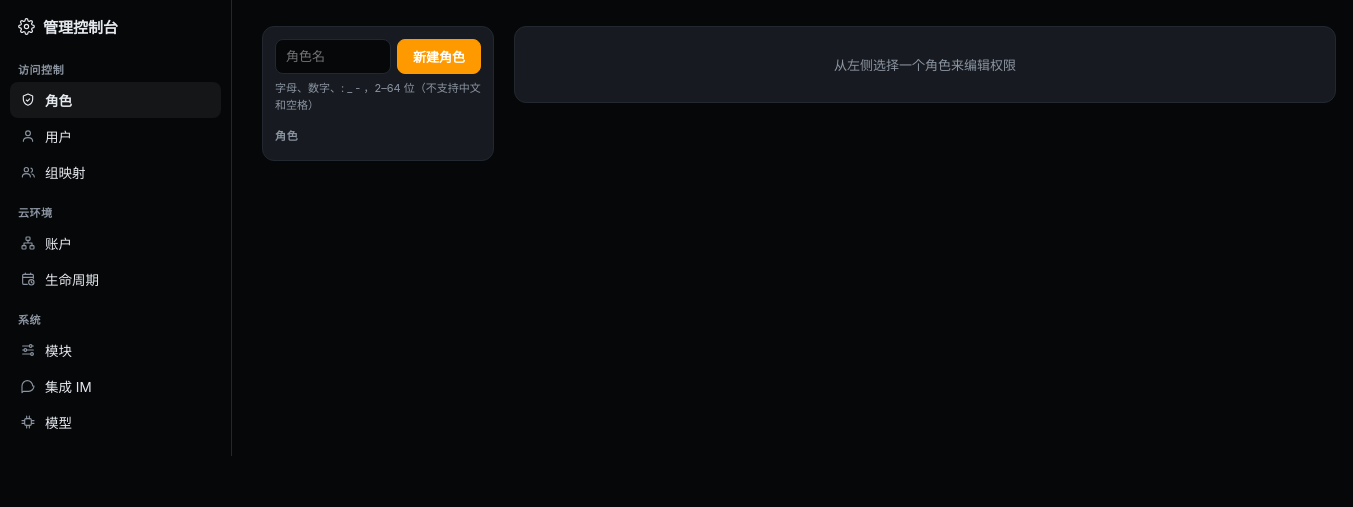
Test: 用户列表：邮箱一列 + 重置密码 + 设邮箱 › 重置密码：只有别人有按钮；确认后调接口，临时密码显示在他的卡片里
The image size is (1353, 507).
Click the button with class "notif-navitem" showing "用户": (116, 136) x1=10 y1=118 x2=221 y2=154
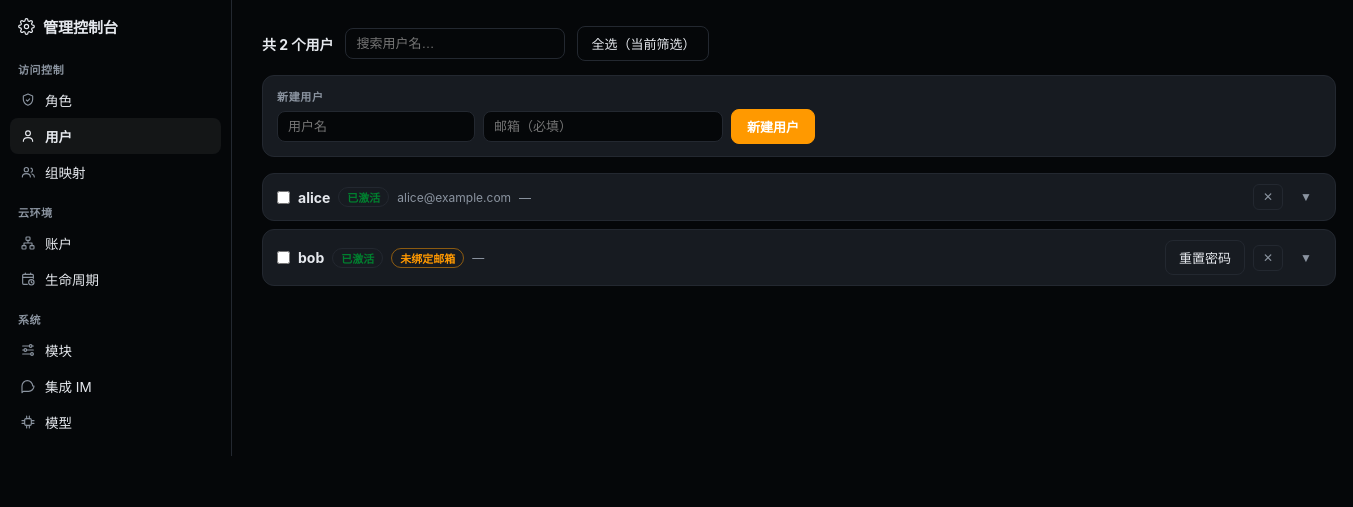
Expected: the text "bob" is shown, x1=298 y1=249 x2=324 y2=266
Expected: the number of buttons "重置密码" is 1
Click the button "重置密码": (1205, 258) x1=1165 y1=240 x2=1245 y2=275
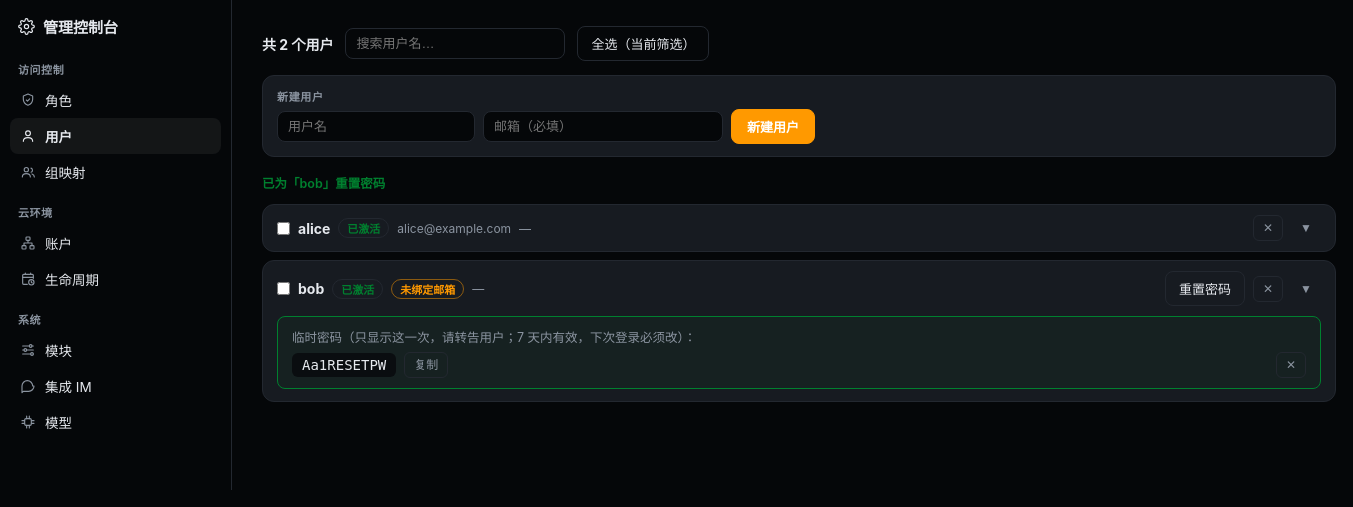
Expected: the text "临时密码（只显示这一次，请转告用户；7 天内有效，下次登录必须改）：" is shown, x1=292 y1=330 x2=696 y2=345
